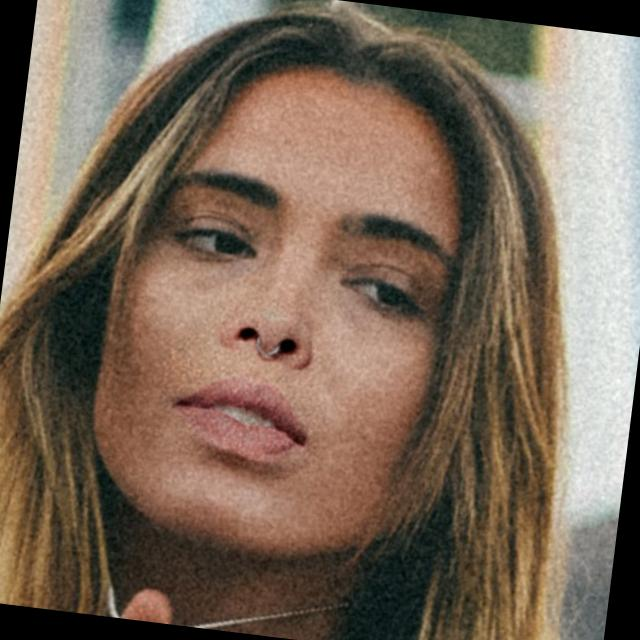face: (81, 27, 516, 588)
